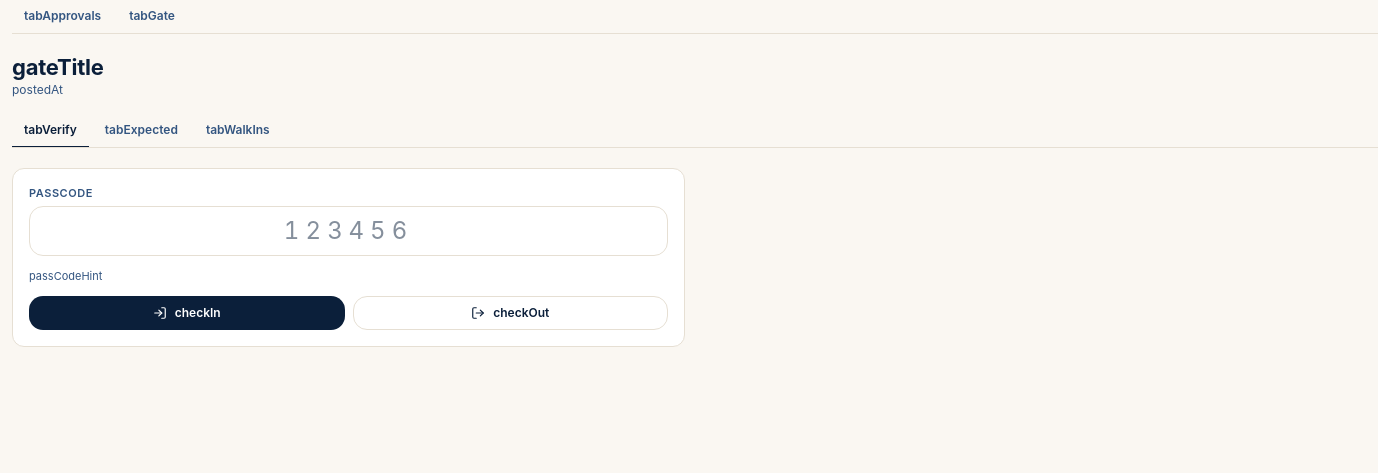
Test case: Gate desk › shows a refusal in the guard's language, never as allowed
Type "482913" into the field with test id "gate-code" at (348,231), box top-left (29, 206), bottom-right (668, 256)
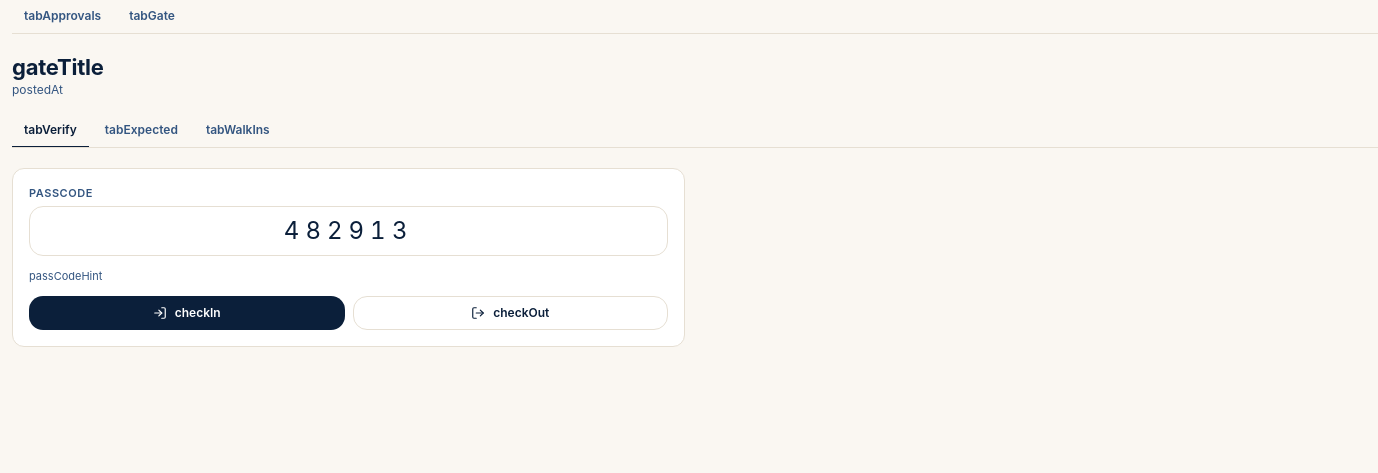
Click the button with test id "gate-check-in" at (187,313), box top-left (29, 296), bottom-right (344, 330)
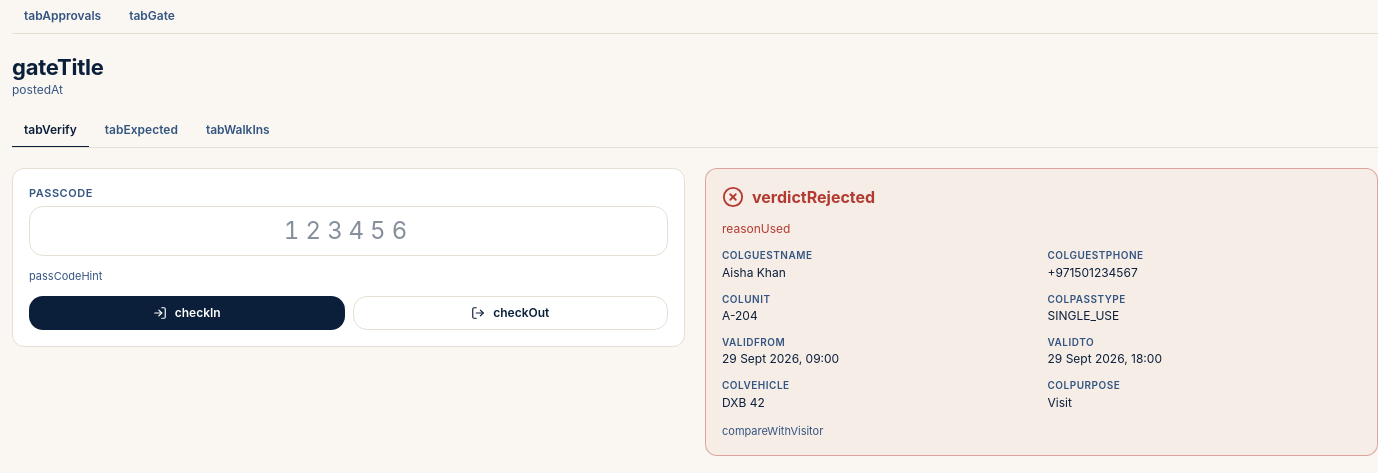
Expected: the text with test id "gate-verdict" reads "verdictRejected", top-left (752, 187), bottom-right (875, 207)
Expected: the text with test id "gate-reason" reads "reasonUsed", top-left (722, 221), bottom-right (790, 236)
